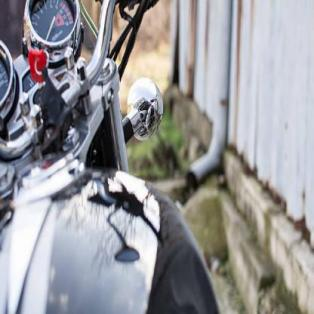Motocicleta: (0, 0, 224, 313)
